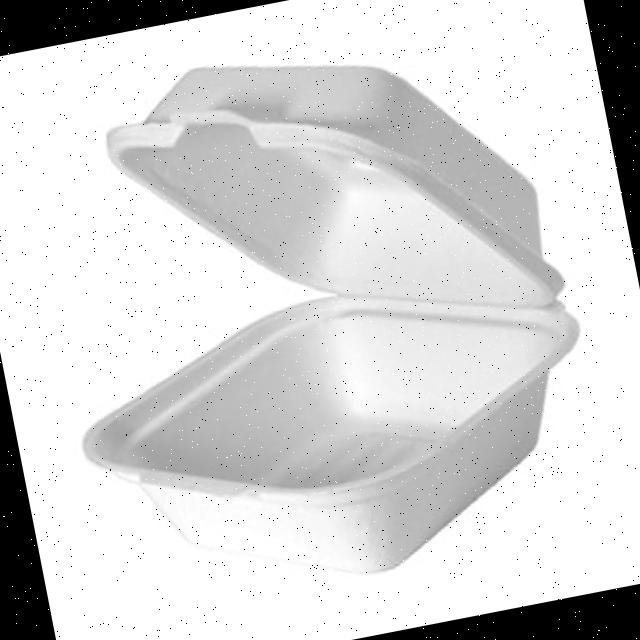styrofoam: (13, 2, 620, 625)
